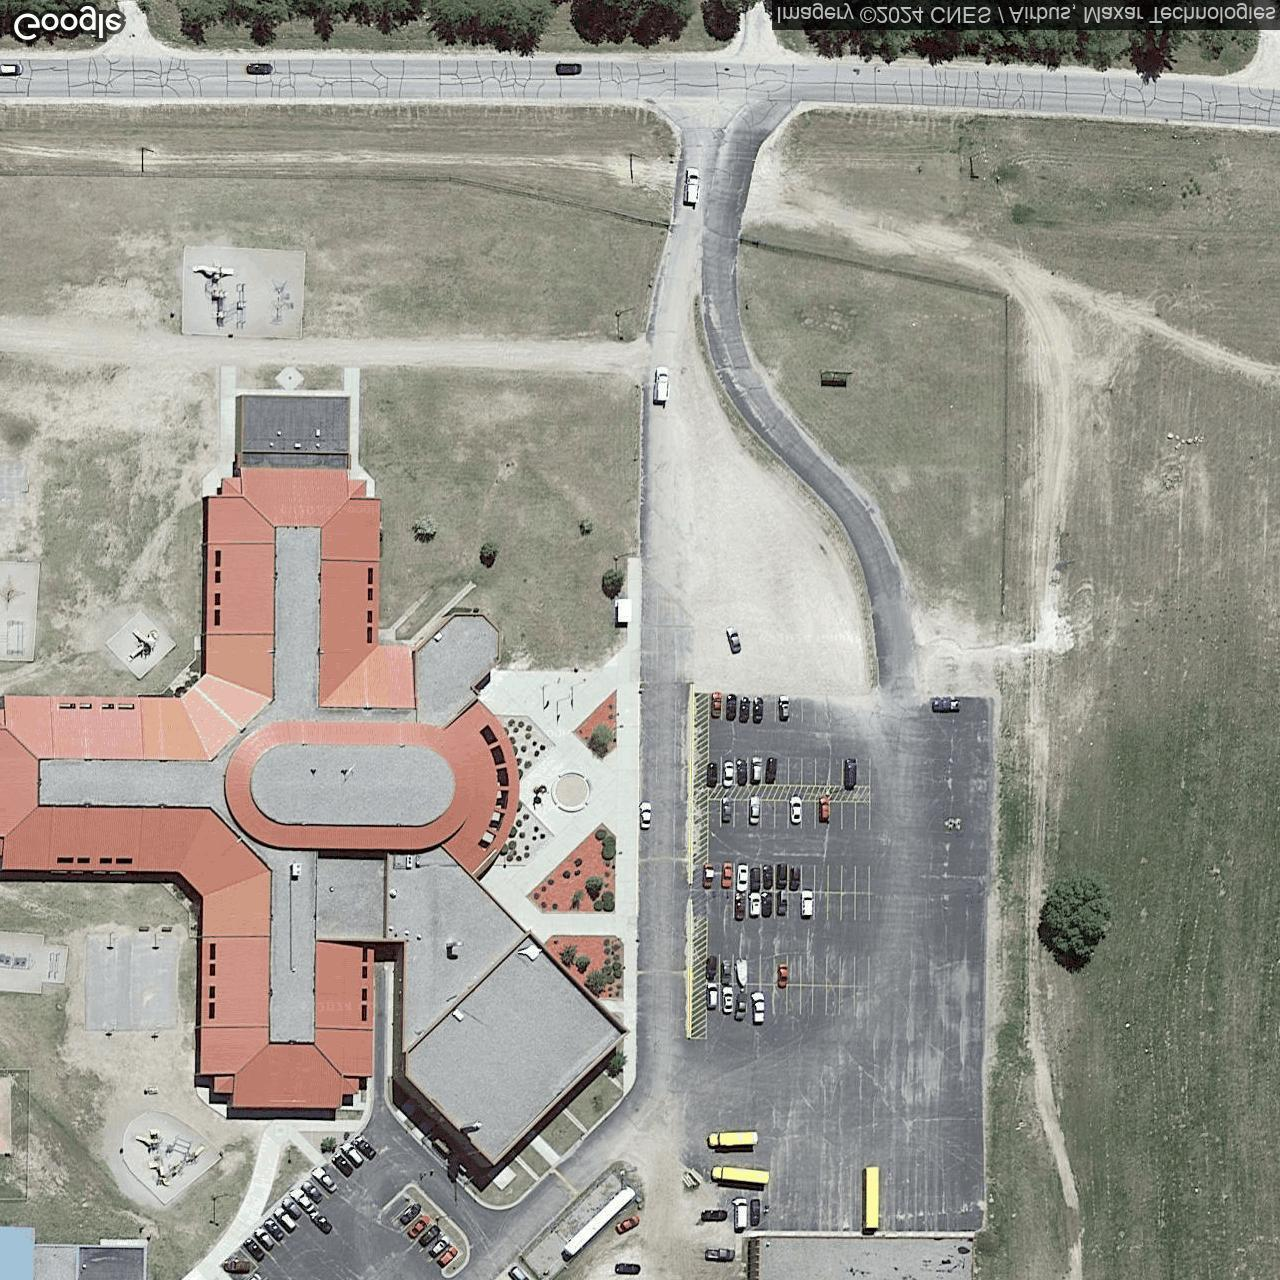House: (0, 1226, 147, 1280)
Other: (0, 394, 632, 1169)
